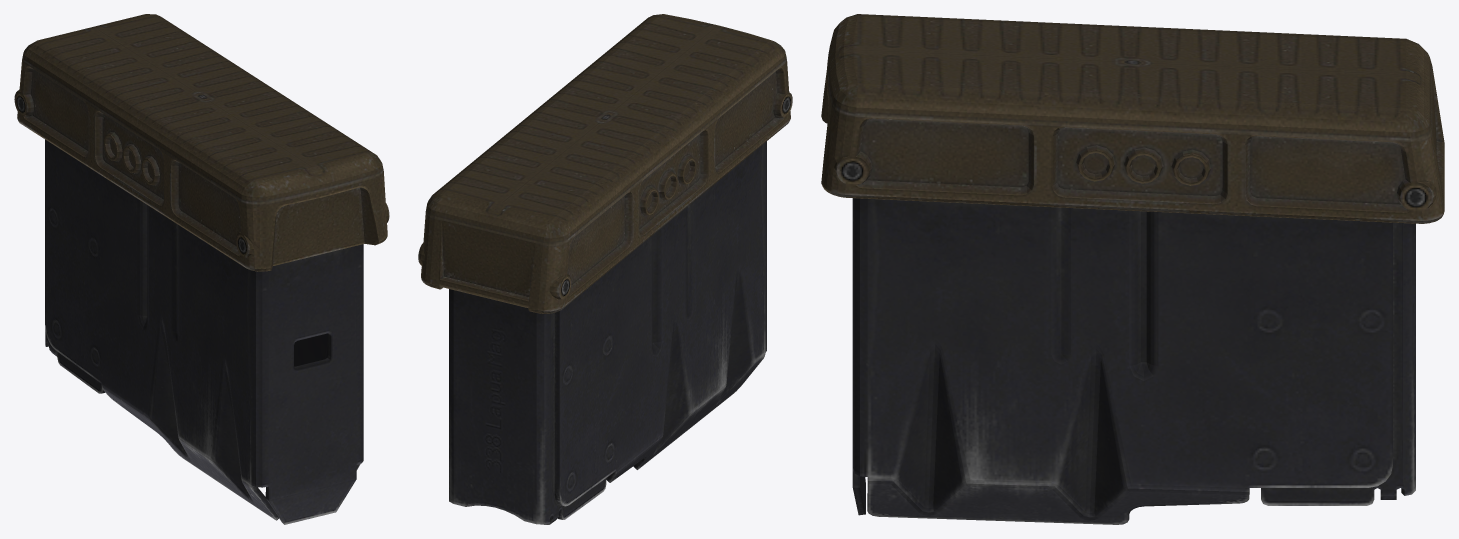
3 views of the same model, side by side, from view 1: azimuth 30°, elevation 25°; view 2: azimuth 150°, elevation 25°; view 3: azimuth 270°, elevation 25° (orthographic). The views are drawn at different scales.
Parts seen in each view (by area): view 1: TW_673cbdfad0453ba50c0f76d6_PZ_Import; view 2: TW_673cbdfad0453ba50c0f76d6_PZ_Import; view 3: TW_673cbdfad0453ba50c0f76d6_PZ_Import.
Part boxes in pixels (box(x1,y1,x2,y2)): TW_673cbdfad0453ba50c0f76d6_PZ_Import: box(14, 14, 389, 524); TW_673cbdfad0453ba50c0f76d6_PZ_Import: box(418, 14, 792, 524); TW_673cbdfad0453ba50c0f76d6_PZ_Import: box(821, 14, 1444, 524).
Size of the model in its own units: 0.0221 by 0.0665 by 0.054.
Materials: 1 (1 with a texture image).
